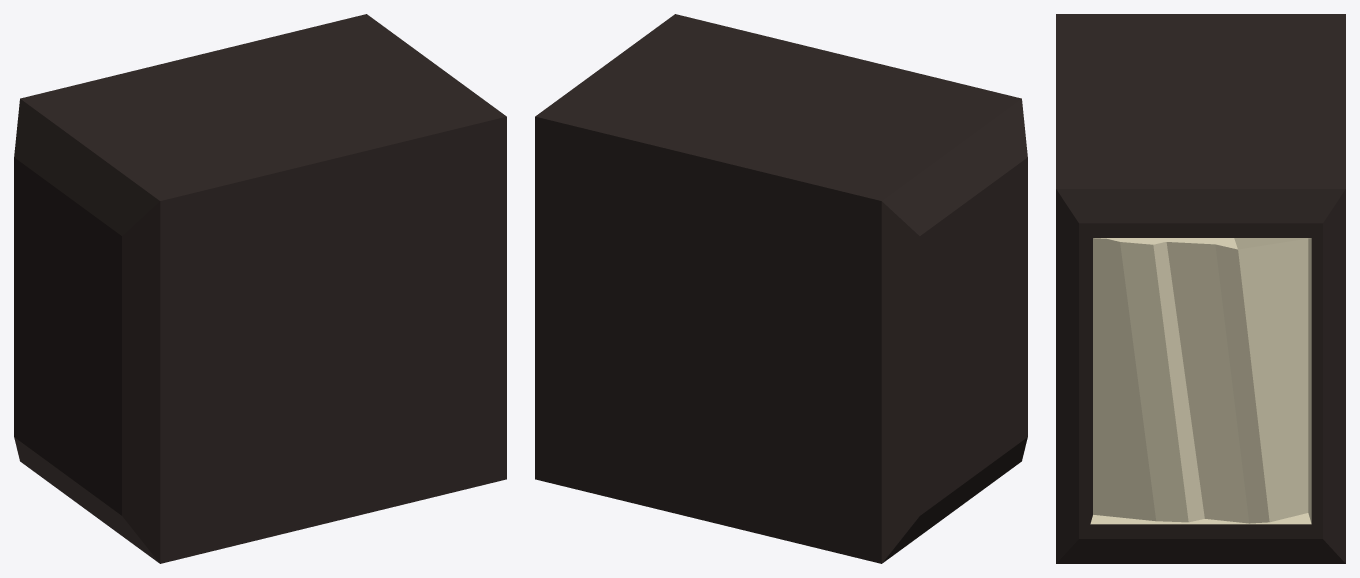
The model's file is napkin.glb.
3 renders of one model, left to right at view 1: azimuth 30°, elevation 25°; view 2: azimuth 150°, elevation 25°; view 3: azimuth 270°, elevation 25°, orthographic. The views are drawn at different scales.
Visible parts, largest first — view 1: Cube.002; view 2: Cube.002; view 3: Cube.002.
Boxes of the visible parts, <box> form: Cube.002: <box>14,14,506,563</box>; Cube.002: <box>535,14,1027,563</box>; Cube.002: <box>1056,14,1345,563</box>.
Bounding box in the file's own units: 2.27 × 2 × 1.4.
